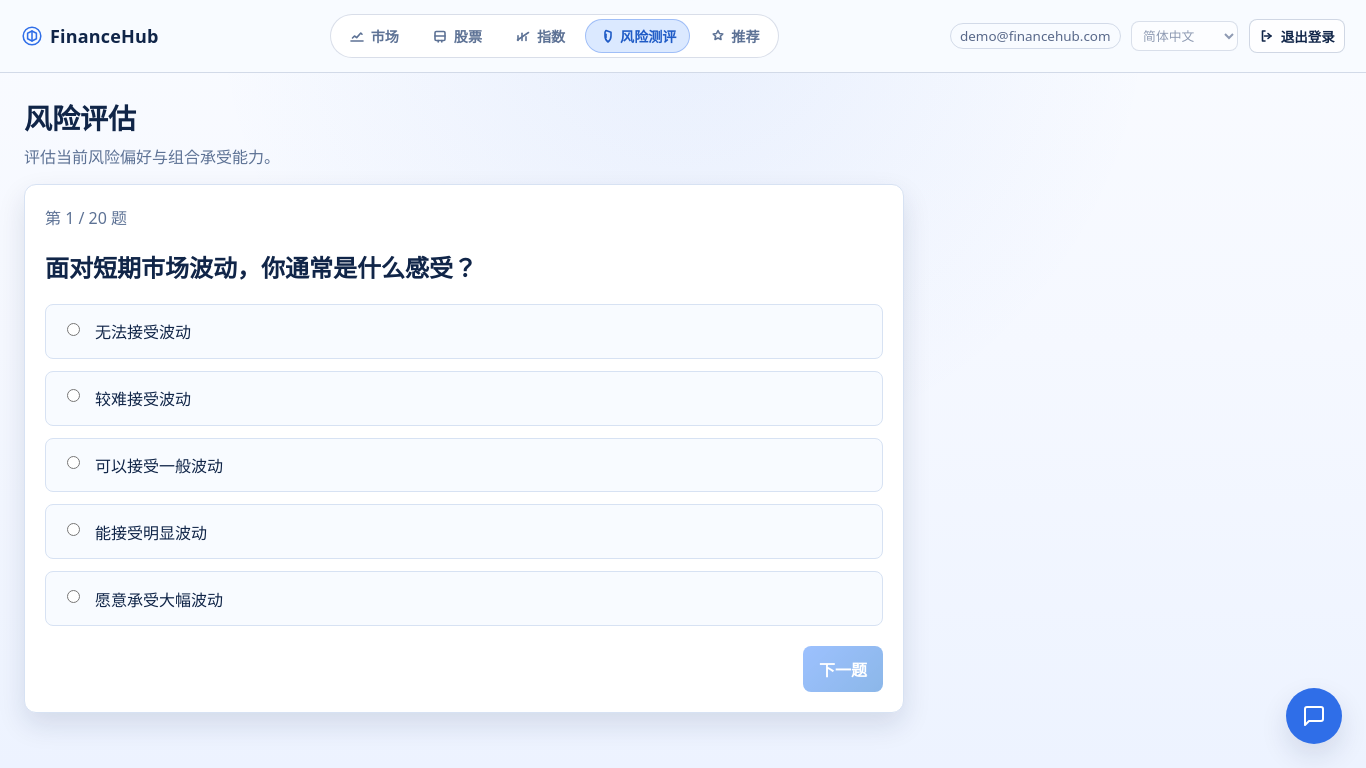
RiskAssessmentPage › advances only one step when the next button is double-clicked
Click the radio button labelled "可以接受一般波动".
click(74, 463)  # box x1=67 y1=456 x2=80 y2=469
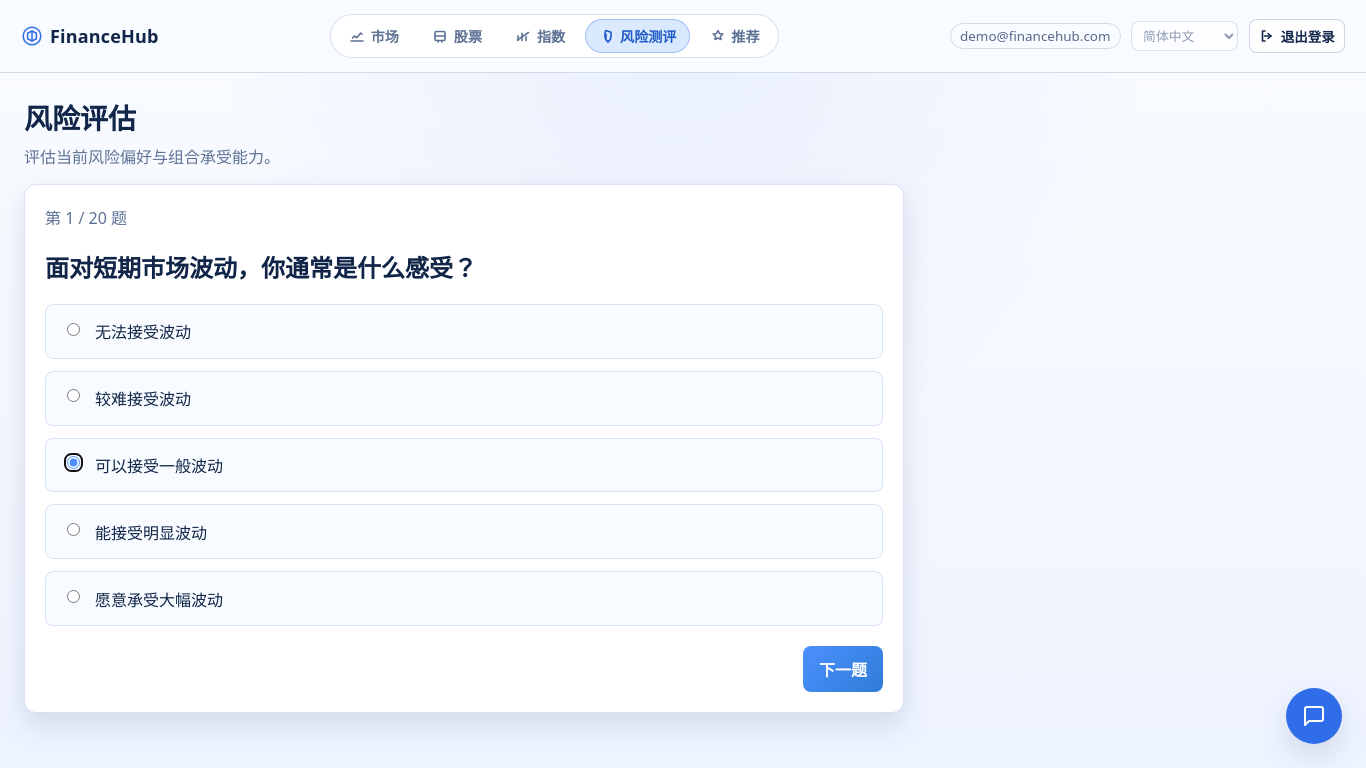
Double-click the button "下一题".
double_click(843, 669)  # box x1=803 y1=646 x2=883 y2=692
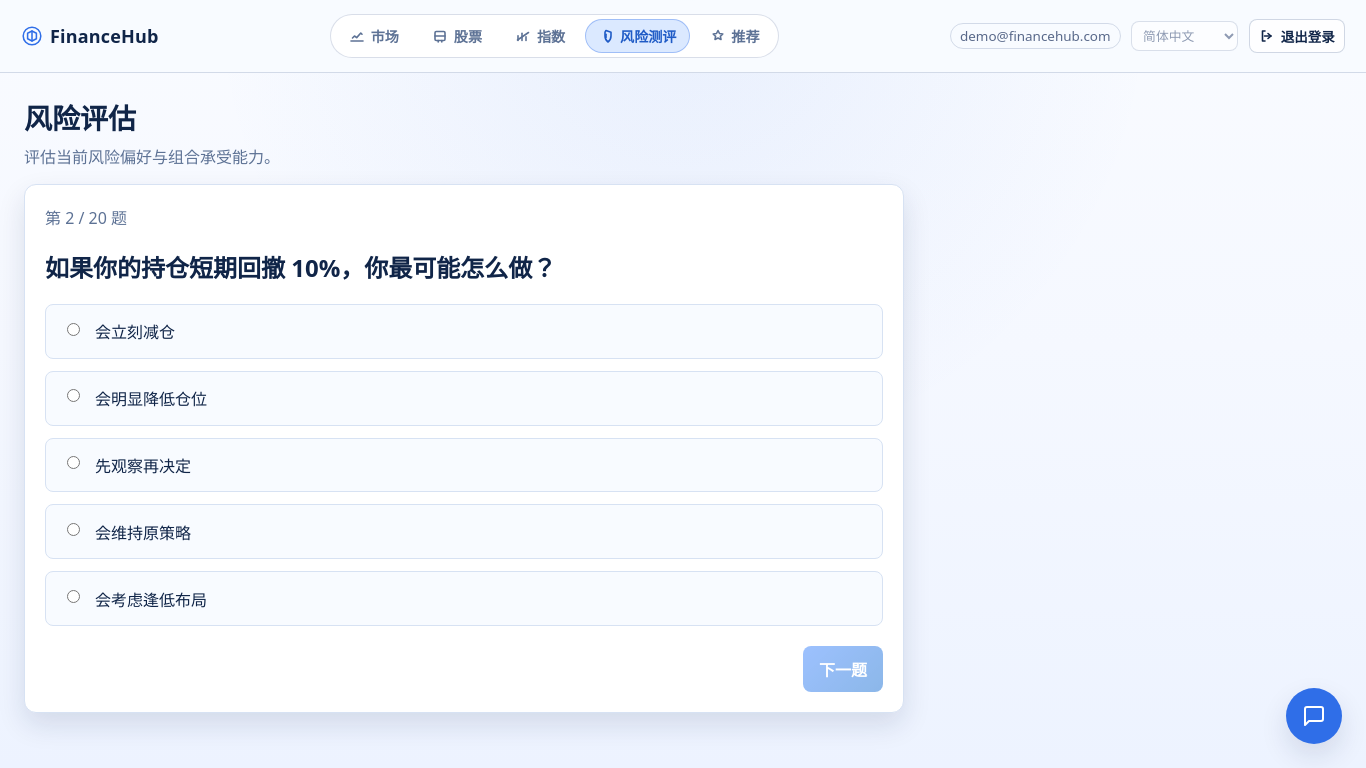
Check: the text "第 2 / 20 题" is shown, box x1=45 y1=207 x2=127 y2=229
